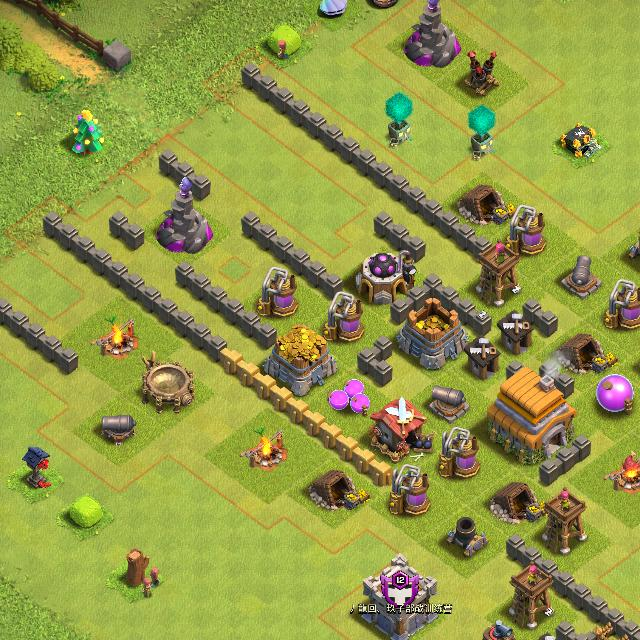Arqueira: (541, 487, 588, 555), (508, 564, 555, 630), (476, 240, 522, 305)
Canhao: (556, 252, 610, 302), (91, 405, 145, 451), (425, 384, 473, 424)
